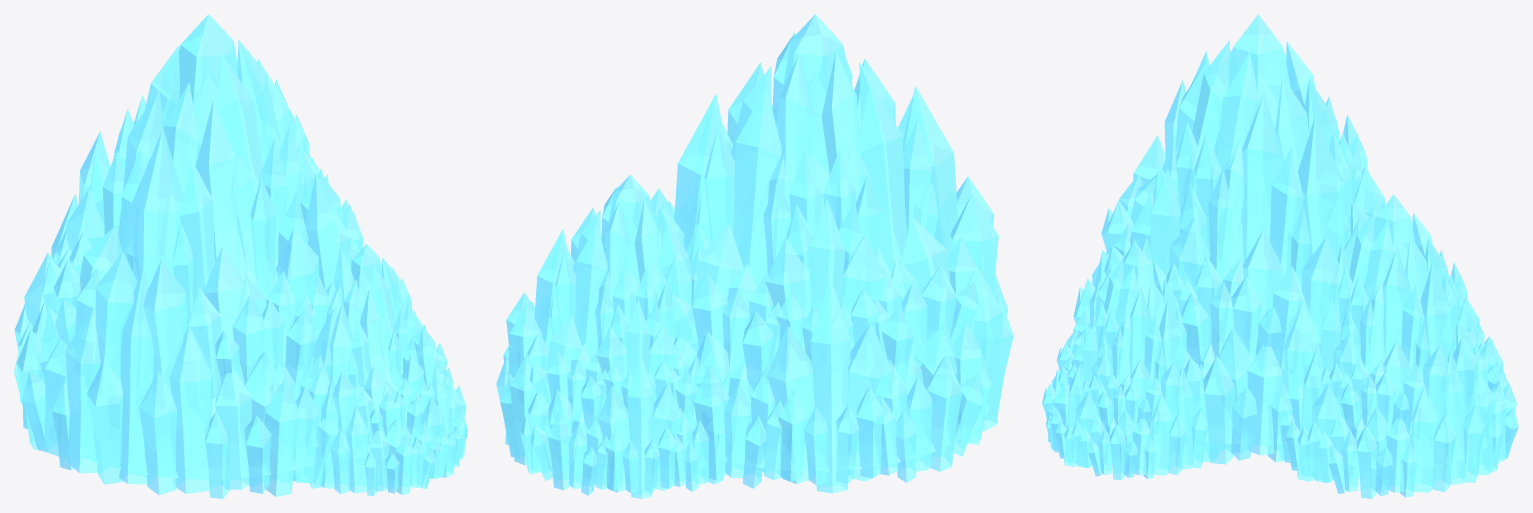
The model's file is Mountain.fbx.
The picture shows the model from 3 angles, left to right: view 1: azimuth 30°, elevation 25°; view 2: azimuth 150°, elevation 25°; view 3: azimuth 270°, elevation 25°; orthographic projection. The views are drawn at different scales.
Parts seen in each view (by area): view 1: Insel3.007; view 2: Insel3.007; view 3: Insel3.007.
Boxes of the visible parts, x1,y1,x2,y2 form: Insel3.007: (14,14,467,498); Insel3.007: (496,14,1013,498); Insel3.007: (1042,14,1518,498).
Bounding box in the file's own units: 335 × 325 × 361.
